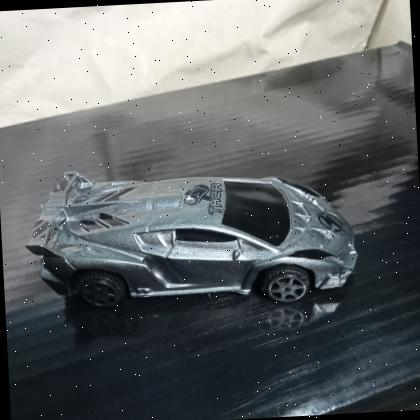Car: (15, 150, 368, 322)
